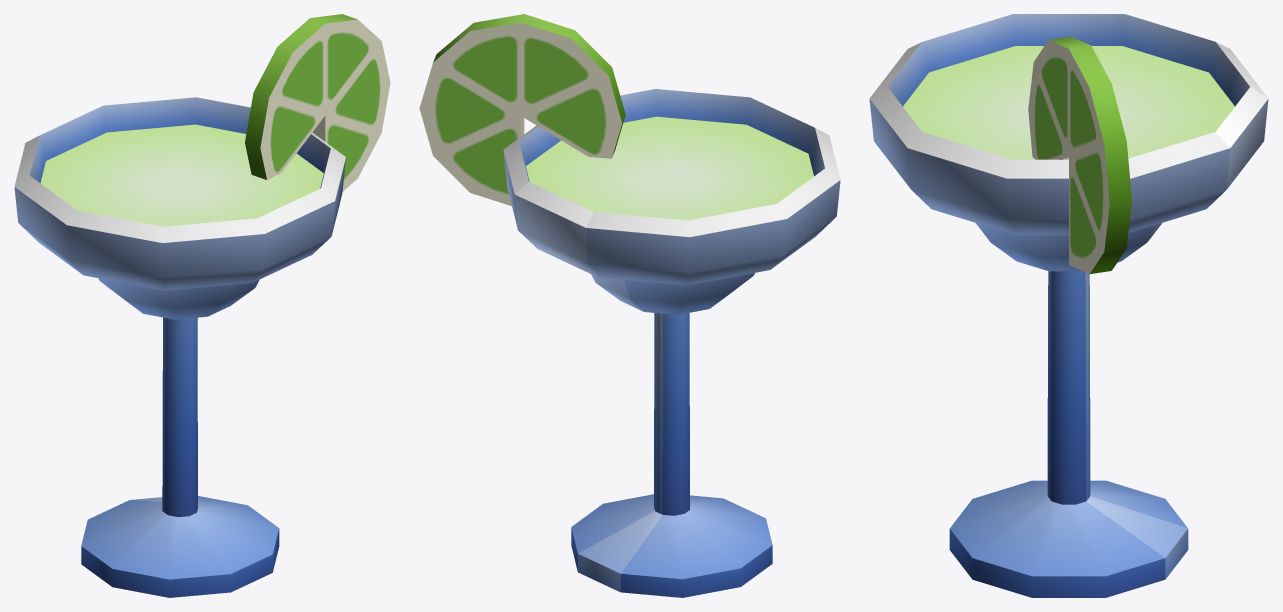
The model's file is m_Margarita01.fbx.
3 views of the same model, side by side, from view 1: azimuth 30°, elevation 25°; view 2: azimuth 150°, elevation 25°; view 3: azimuth 270°, elevation 25° (orthographic). The views are drawn at different scales.
Visible parts, largest first — view 1: m_Margarita01; view 2: m_Margarita01; view 3: m_Margarita01.
Part boxes in pixels (x1,y1,x2,y2): m_Margarita01: [14, 14, 390, 597]; m_Margarita01: [419, 14, 840, 597]; m_Margarita01: [869, 14, 1268, 597].
Bounding box in the file's own units: 20.94 × 27.05 × 16.74.
